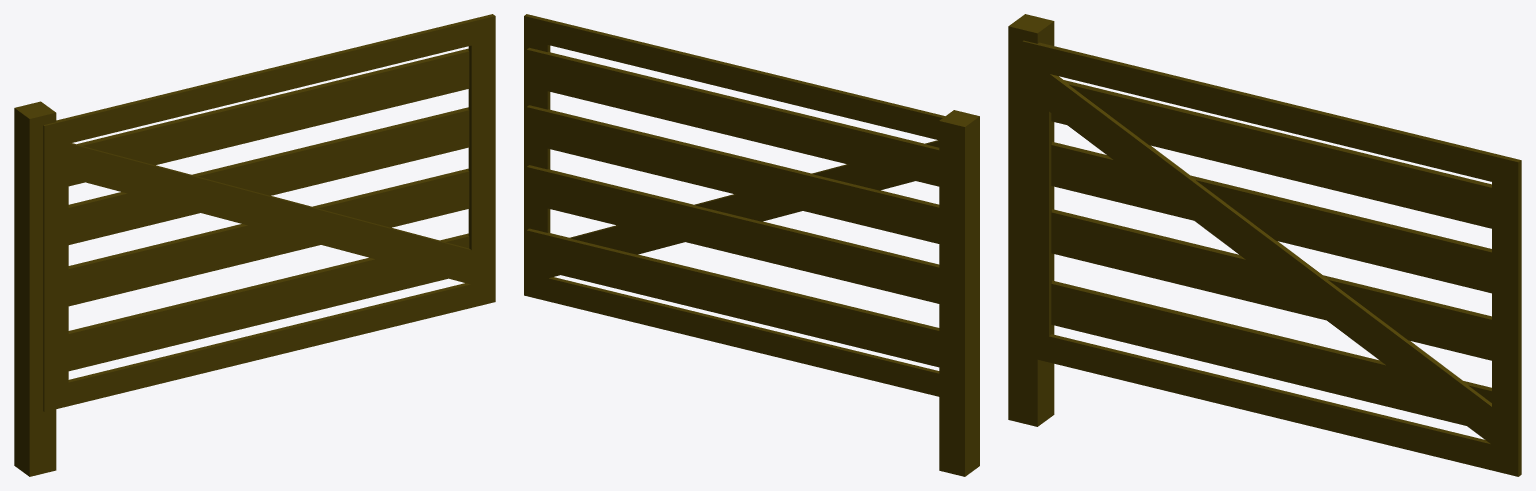
Rendered from Wooden Gate one post.fbx.
3 views of the same model, side by side, from view 1: azimuth 30°, elevation 25°; view 2: azimuth 150°, elevation 25°; view 3: azimuth 330°, elevation 25° (orthographic). The views are drawn at different scales.
Visible parts, largest first — view 1: pCube21, pCube12; view 2: pCube21, pCube12; view 3: pCube21, pCube12.
Boxes of the visible parts, x1=… form: pCube21: x1=43, y1=14, x2=495, y2=411; pCube12: x1=14, y1=101, x2=56, y2=476; pCube21: x1=524, y1=14, x2=944, y2=396; pCube12: x1=939, y1=110, x2=979, y2=476; pCube21: x1=1022, y1=40, x2=1521, y2=476; pCube12: x1=1008, y1=14, x2=1054, y2=426.
Size of the model in its own units: 3.51 by 2.59 by 0.2138.
